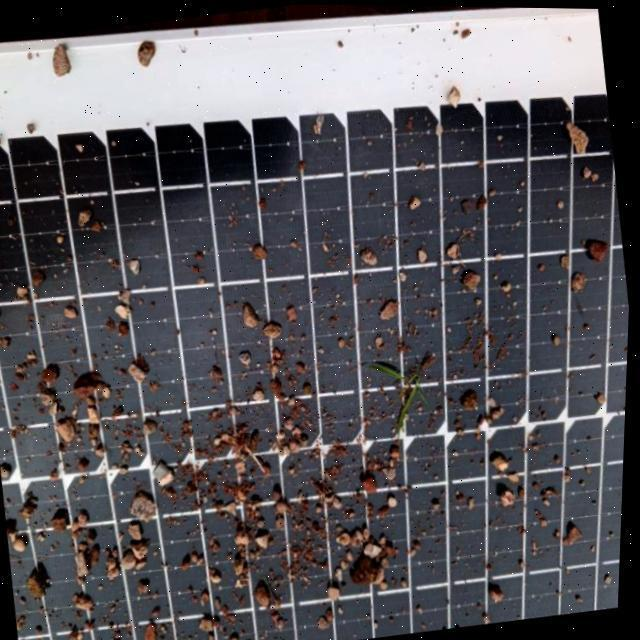Surface Contaminant: (0, 16, 631, 640)
